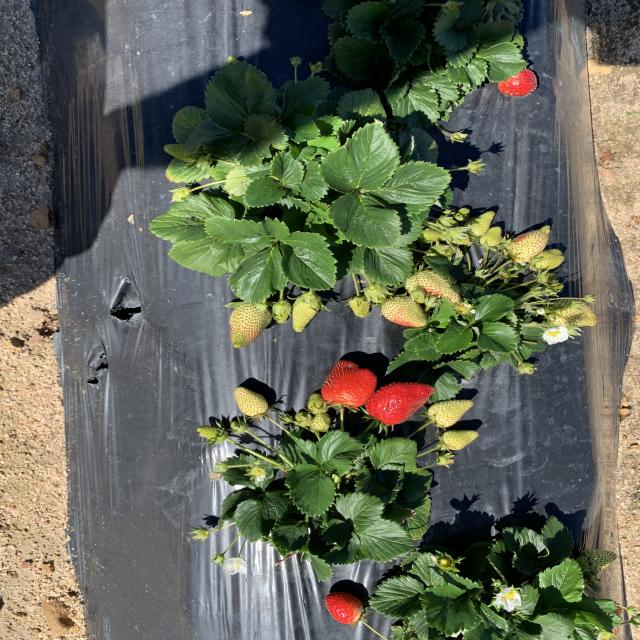unripe: (365, 381, 437, 426), (321, 358, 378, 406), (497, 64, 539, 98), (324, 591, 364, 626)
